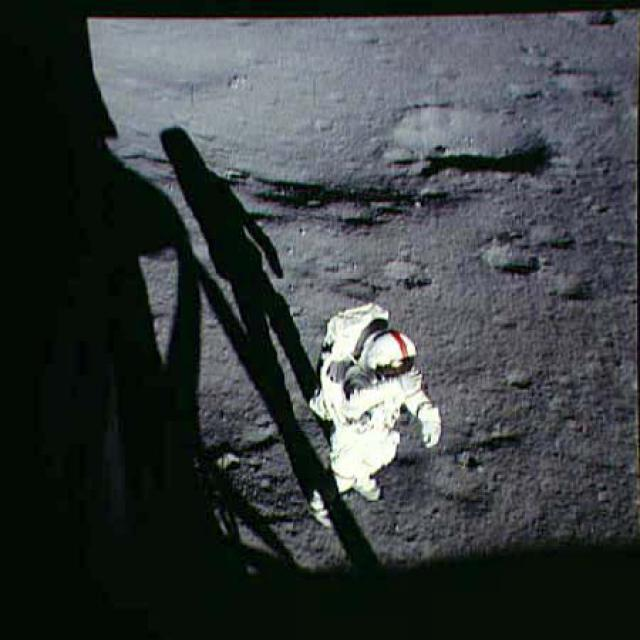crater: (372, 94, 566, 194), (548, 0, 638, 37), (559, 67, 632, 109), (472, 236, 536, 280), (379, 252, 441, 297), (550, 264, 614, 302), (492, 360, 544, 396), (490, 314, 529, 335)
